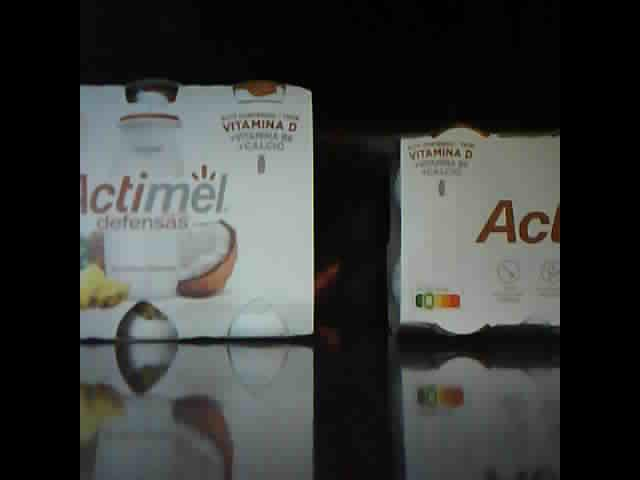actimel: (80, 78, 317, 340), (391, 124, 560, 335)
